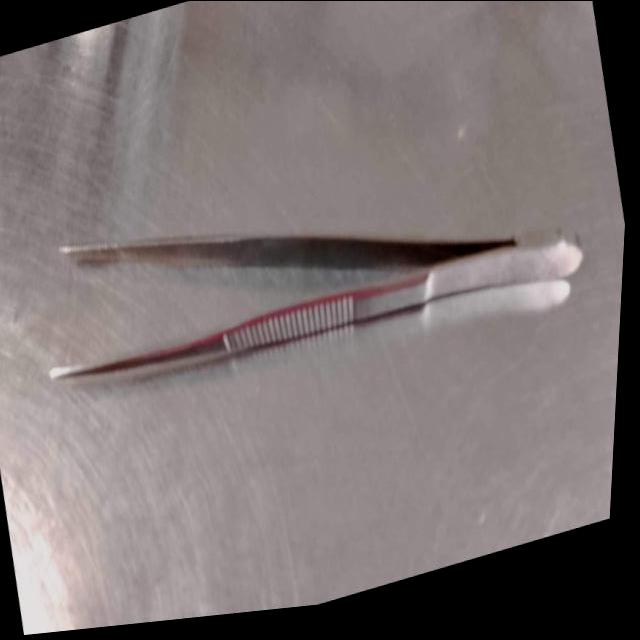Pathological: (0, 0, 627, 636)
Sharps: (47, 235, 582, 380), (57, 233, 516, 270)
